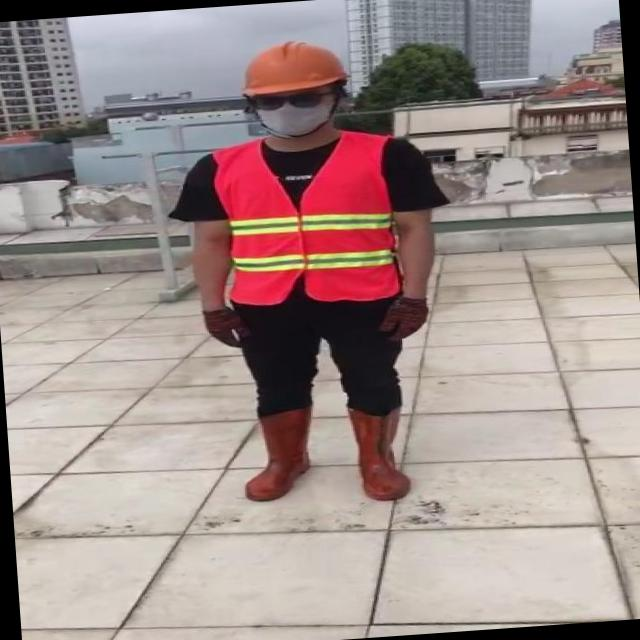hard_hat: (228, 38, 349, 98)
safety_vest: (215, 128, 402, 310)
vehicle: (162, 32, 458, 530)
work_boots: (238, 406, 314, 503), (344, 402, 413, 502)
